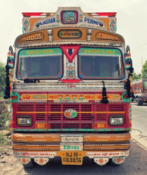truck: (4, 3, 133, 171)
